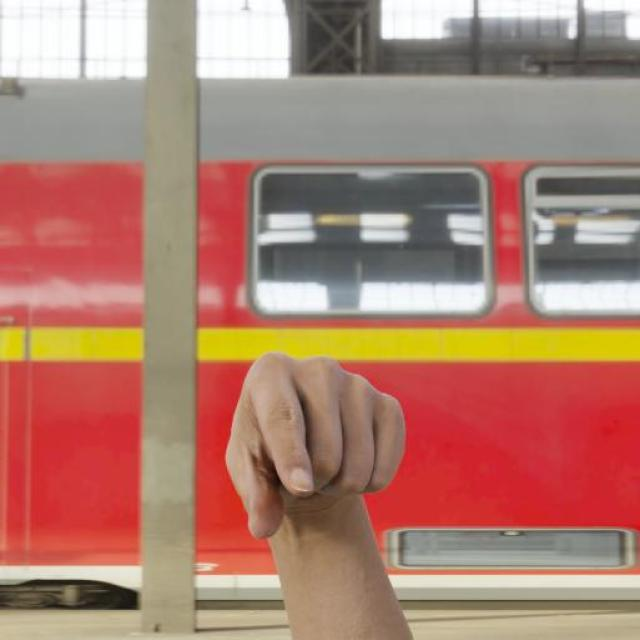Q: (223, 342, 412, 542)
